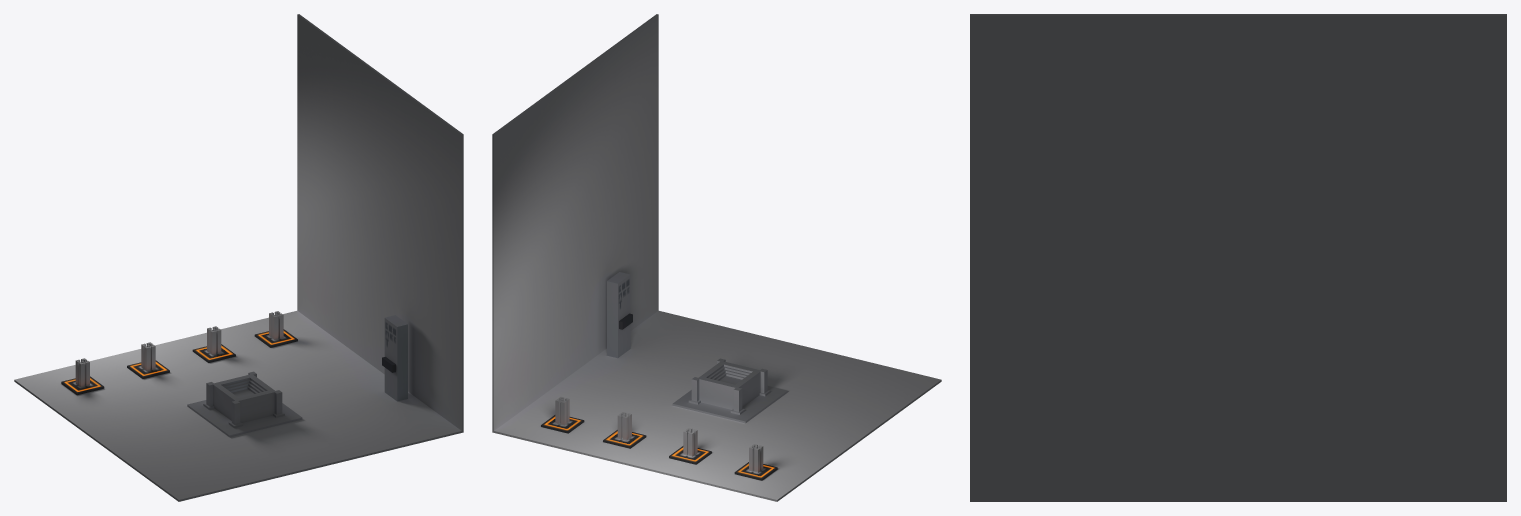
Rendered from level3.glb.
3 renders of one model, left to right at view 1: azimuth 30°, elevation 25°; view 2: azimuth 150°, elevation 25°; view 3: azimuth 270°, elevation 25°, orthographic. The views are drawn at different scales.
Parts seen in each view (by area): view 1: voxel_map_level1-4-0; view 2: voxel_map_level1-4-0; view 3: voxel_map_level1-4-0.
Part boxes in pixels (x1,y1,x2,y2): voxel_map_level1-4-0: [14, 14, 463, 501]; voxel_map_level1-4-0: [492, 14, 941, 501]; voxel_map_level1-4-0: [970, 14, 1506, 501].
Bounding box in the file's own units: 156 × 156 × 156.
8 materials, 8 textured.
